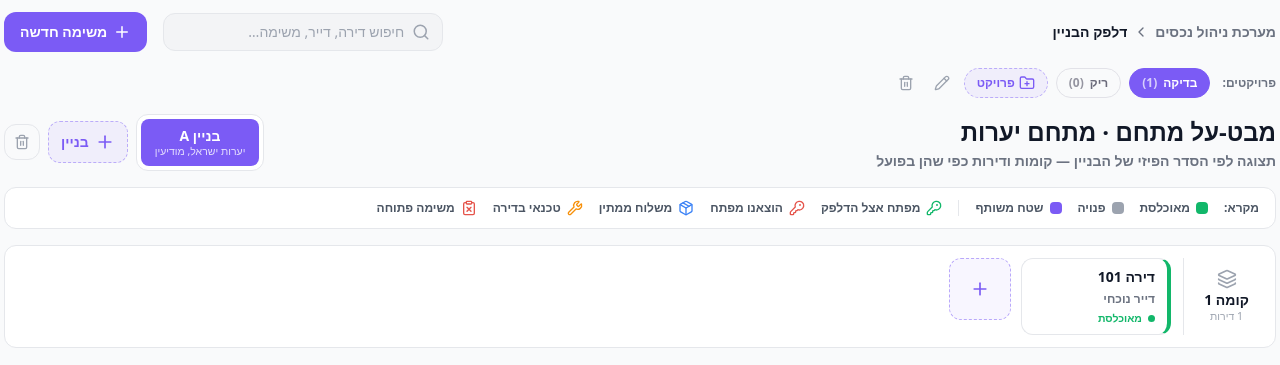
Test: BuildingReceptionDesk › clears the building grid when an empty project is selected
The image size is (1280, 365).
Expected: the heading "מבט-על מתחם · מתחם יערות" is shown, [961,115,1276,148]
Click the button "ריק (0)" at (1088, 83), box [1056,68,1121,98]
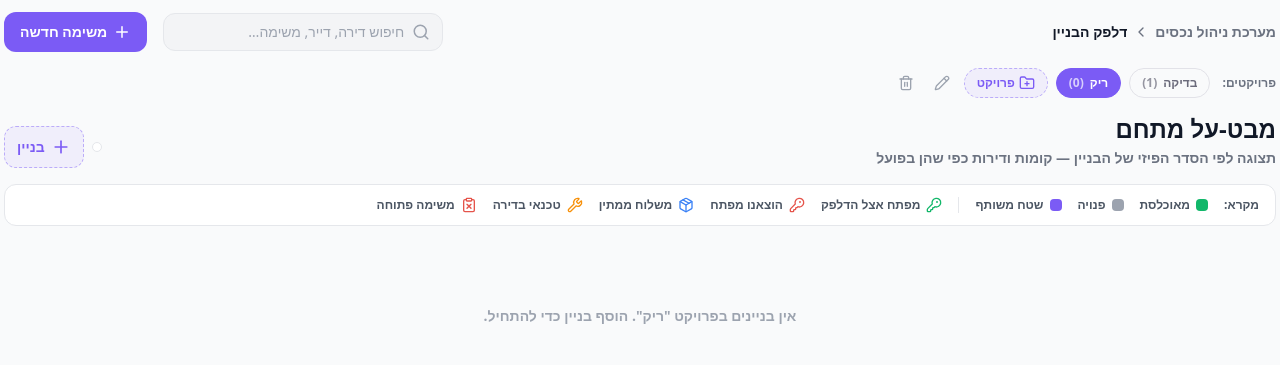
Expected: the text "אין בניינים בפרויקט \"ריק\". הוסף בניין כדי להתחיל." is shown, [484,306,796,325]
